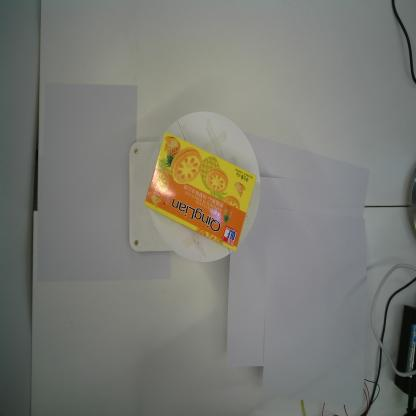Dessert: (145, 130, 256, 255)
